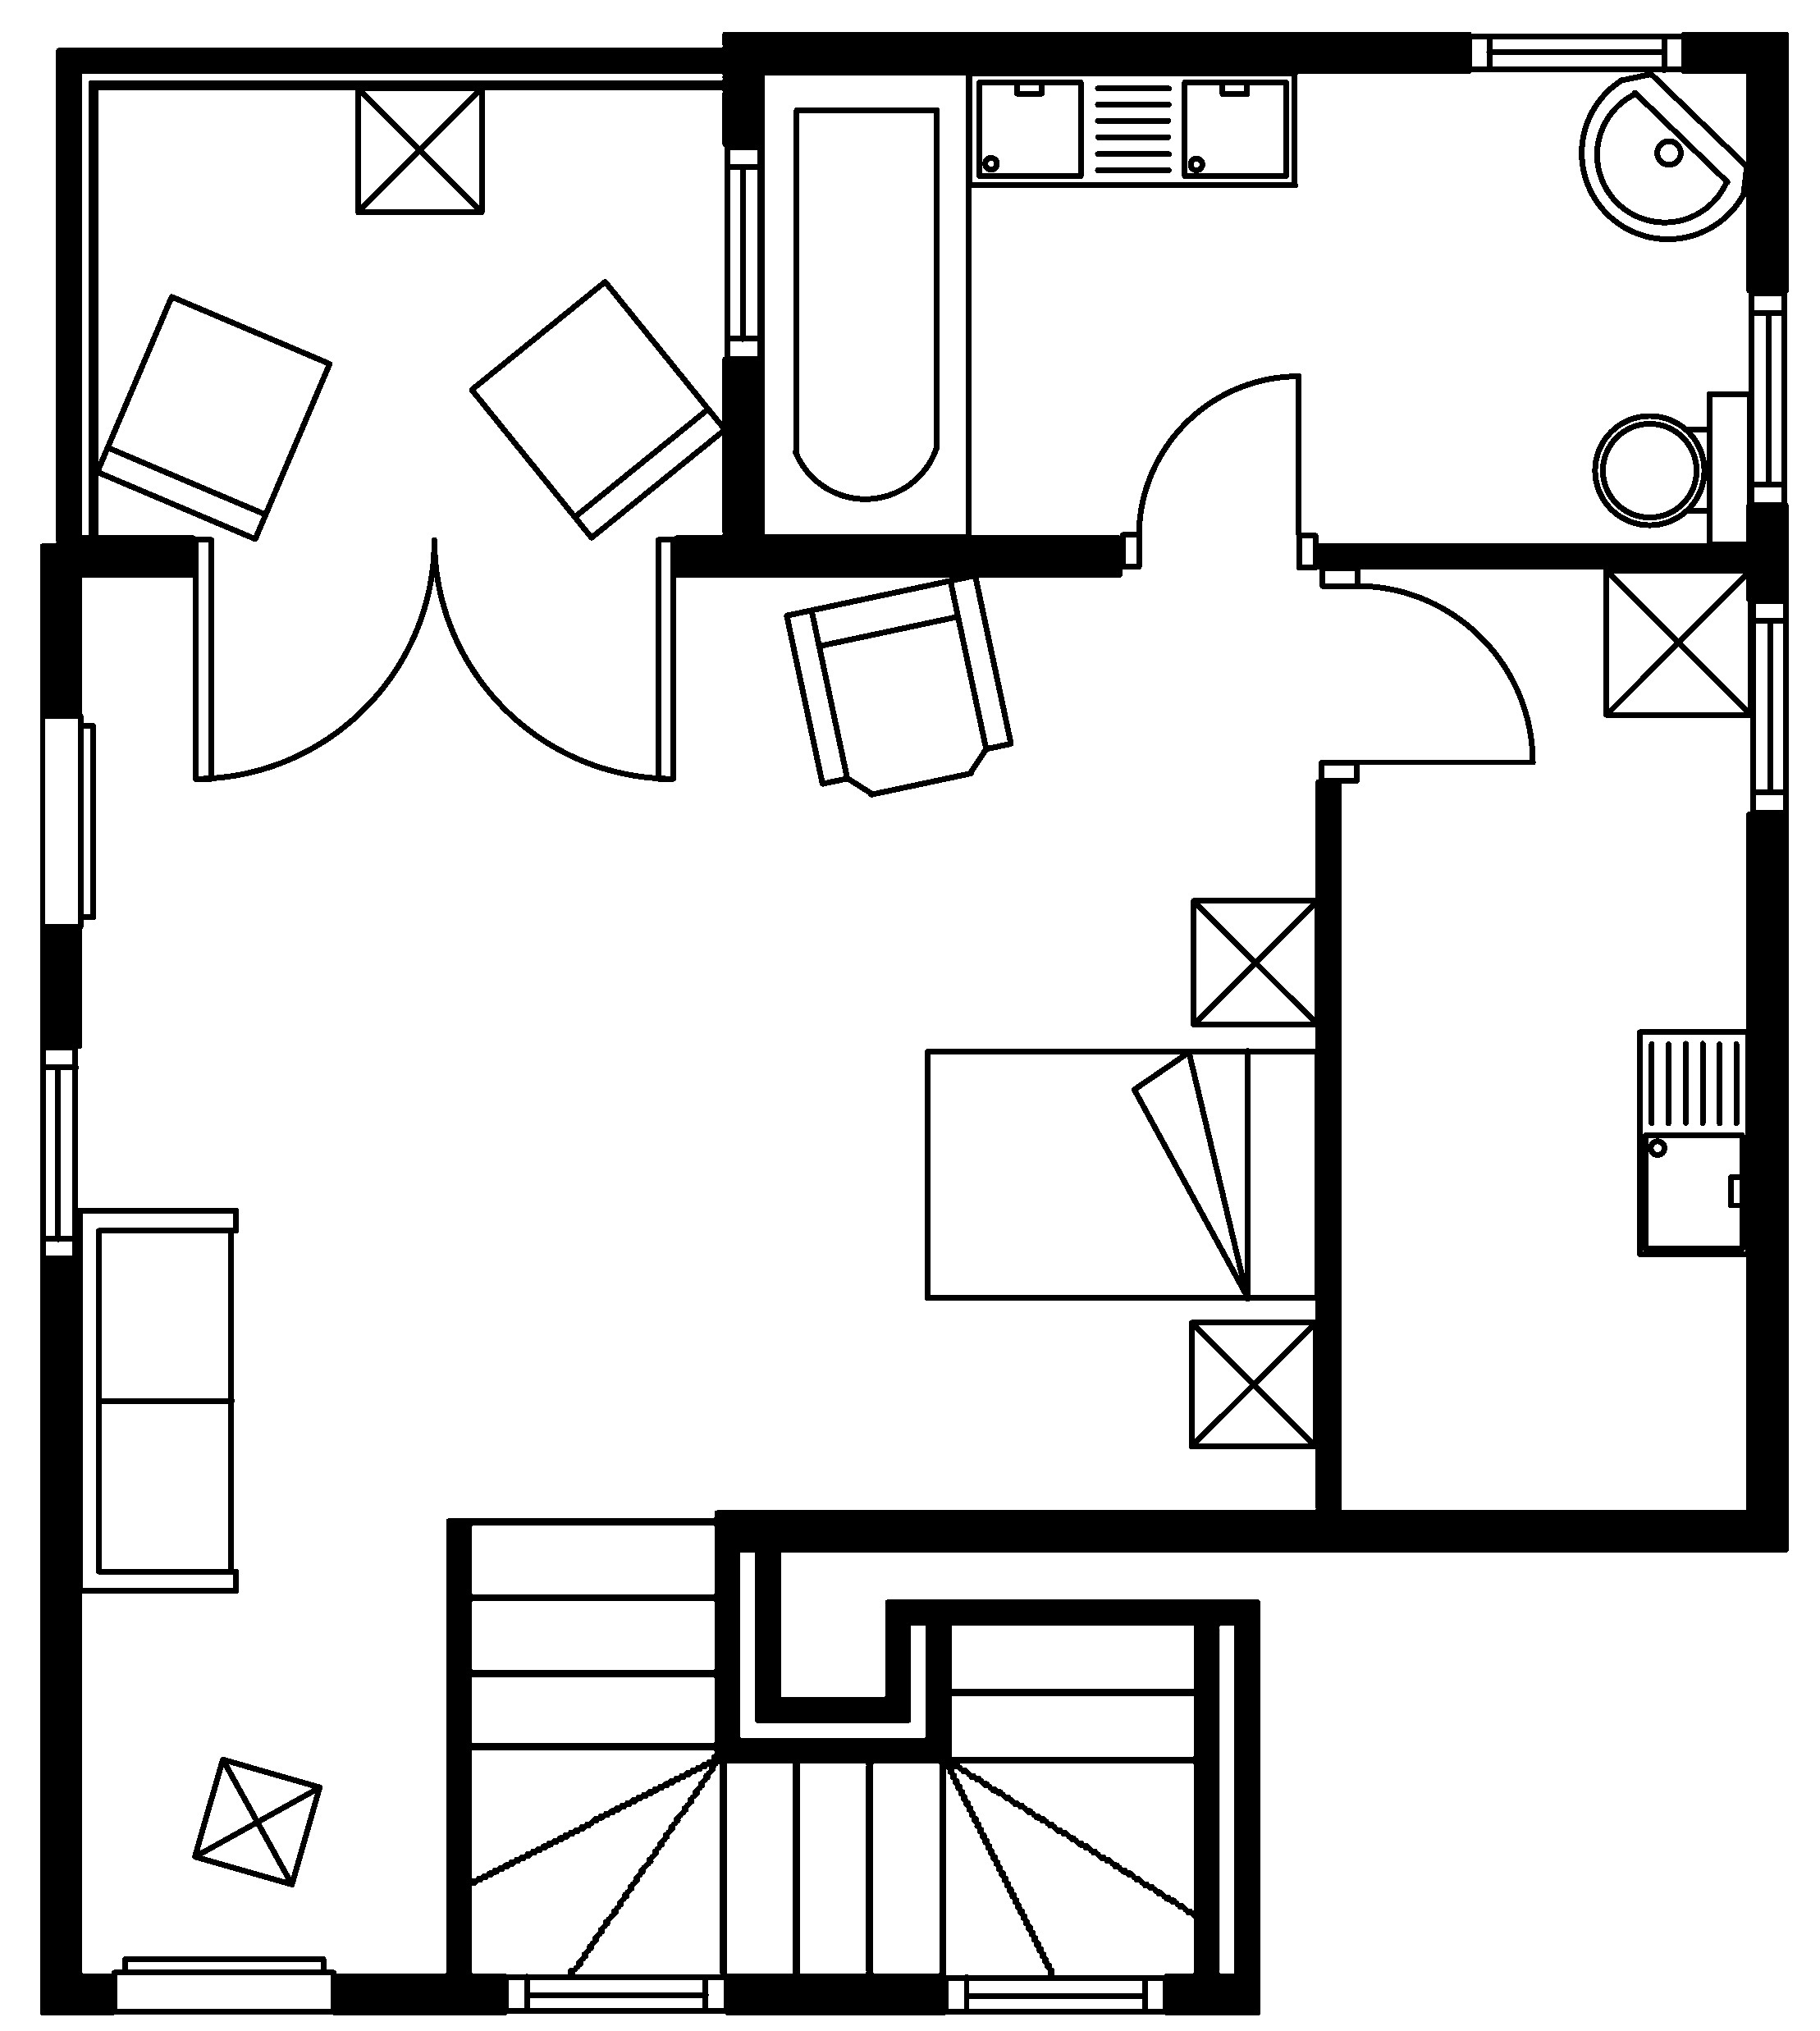armchair: (782, 571, 1014, 798)
bed: (922, 1047, 1321, 1302)
coffee_table: (1602, 566, 1753, 719), (190, 1755, 323, 1887), (1186, 1318, 1319, 1449), (1189, 896, 1321, 1028), (353, 84, 485, 214)
large_sink: (1592, 388, 1753, 548)
large_sofa: (76, 1207, 239, 1595)
sink: (1636, 1028, 1751, 1258)
small_sink: (1578, 70, 1750, 241)
small_sofa: (467, 278, 727, 541), (93, 292, 332, 543)
tub: (757, 69, 971, 539)
twin_sink: (964, 69, 1298, 188)
